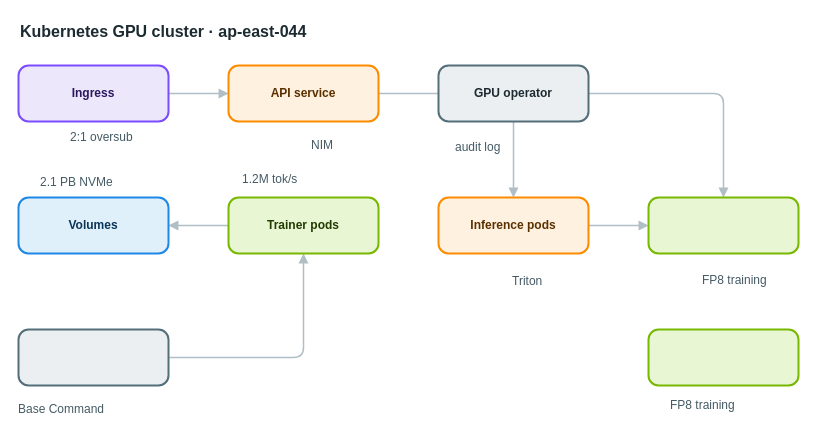
The diagram is 816 pixels wide and 434 high, and some of its shapes have lost their labels. Here are the shapes that lost their labels. From the top down, the centre of each, then its label:
the point at 723,225: GPU node A
the point at 93,357: Prometheus
the point at 723,357: GPU node B
